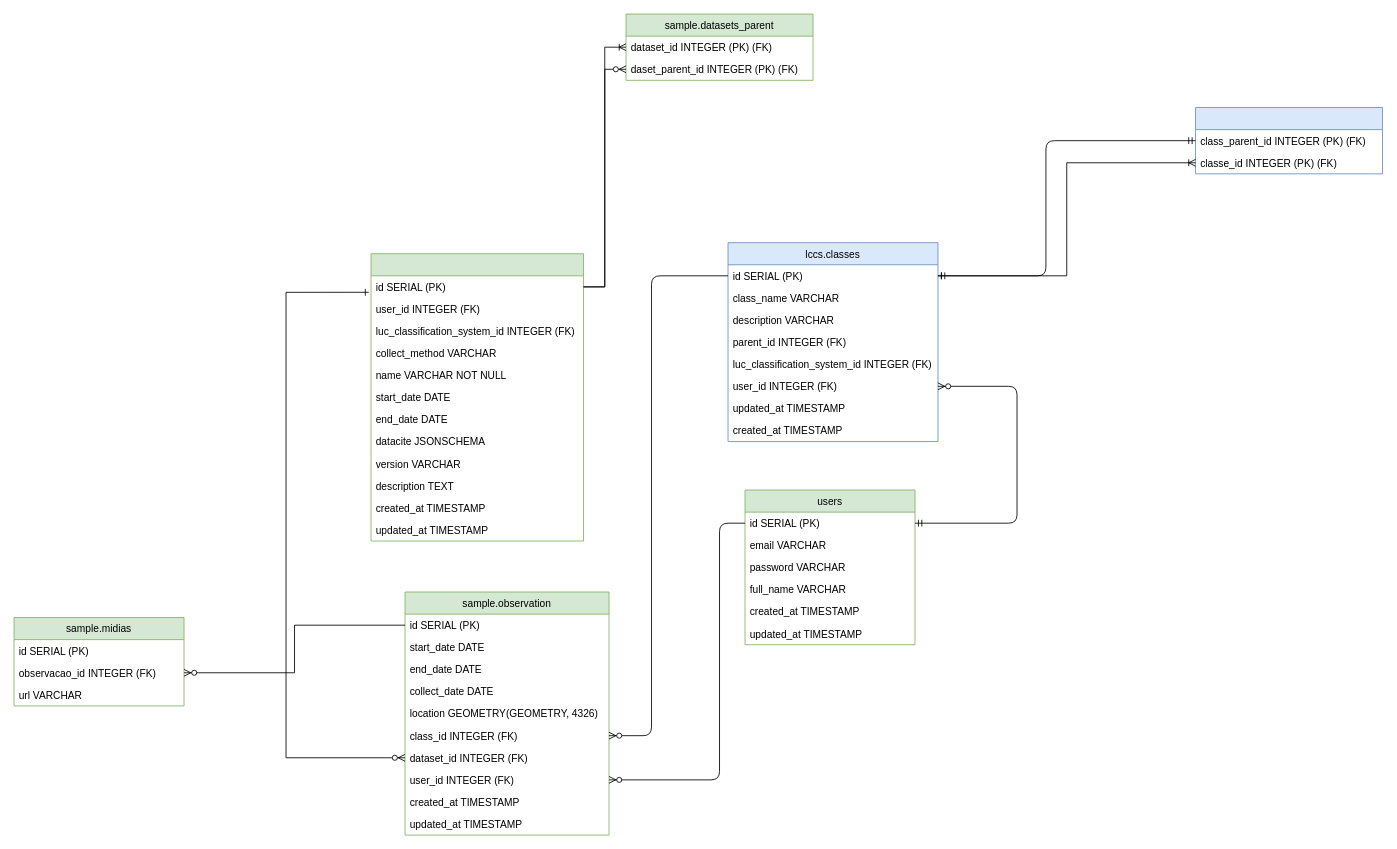
Some shapes in this 1397 by 849 pixel diagram are drawn without their labels. The box of each missing label's shape, as (x1, y1, x2, y2) in pixels:
lcc.parent_classes: (1195, 107, 1383, 174)
sample.datasets: (370, 253, 584, 541)
